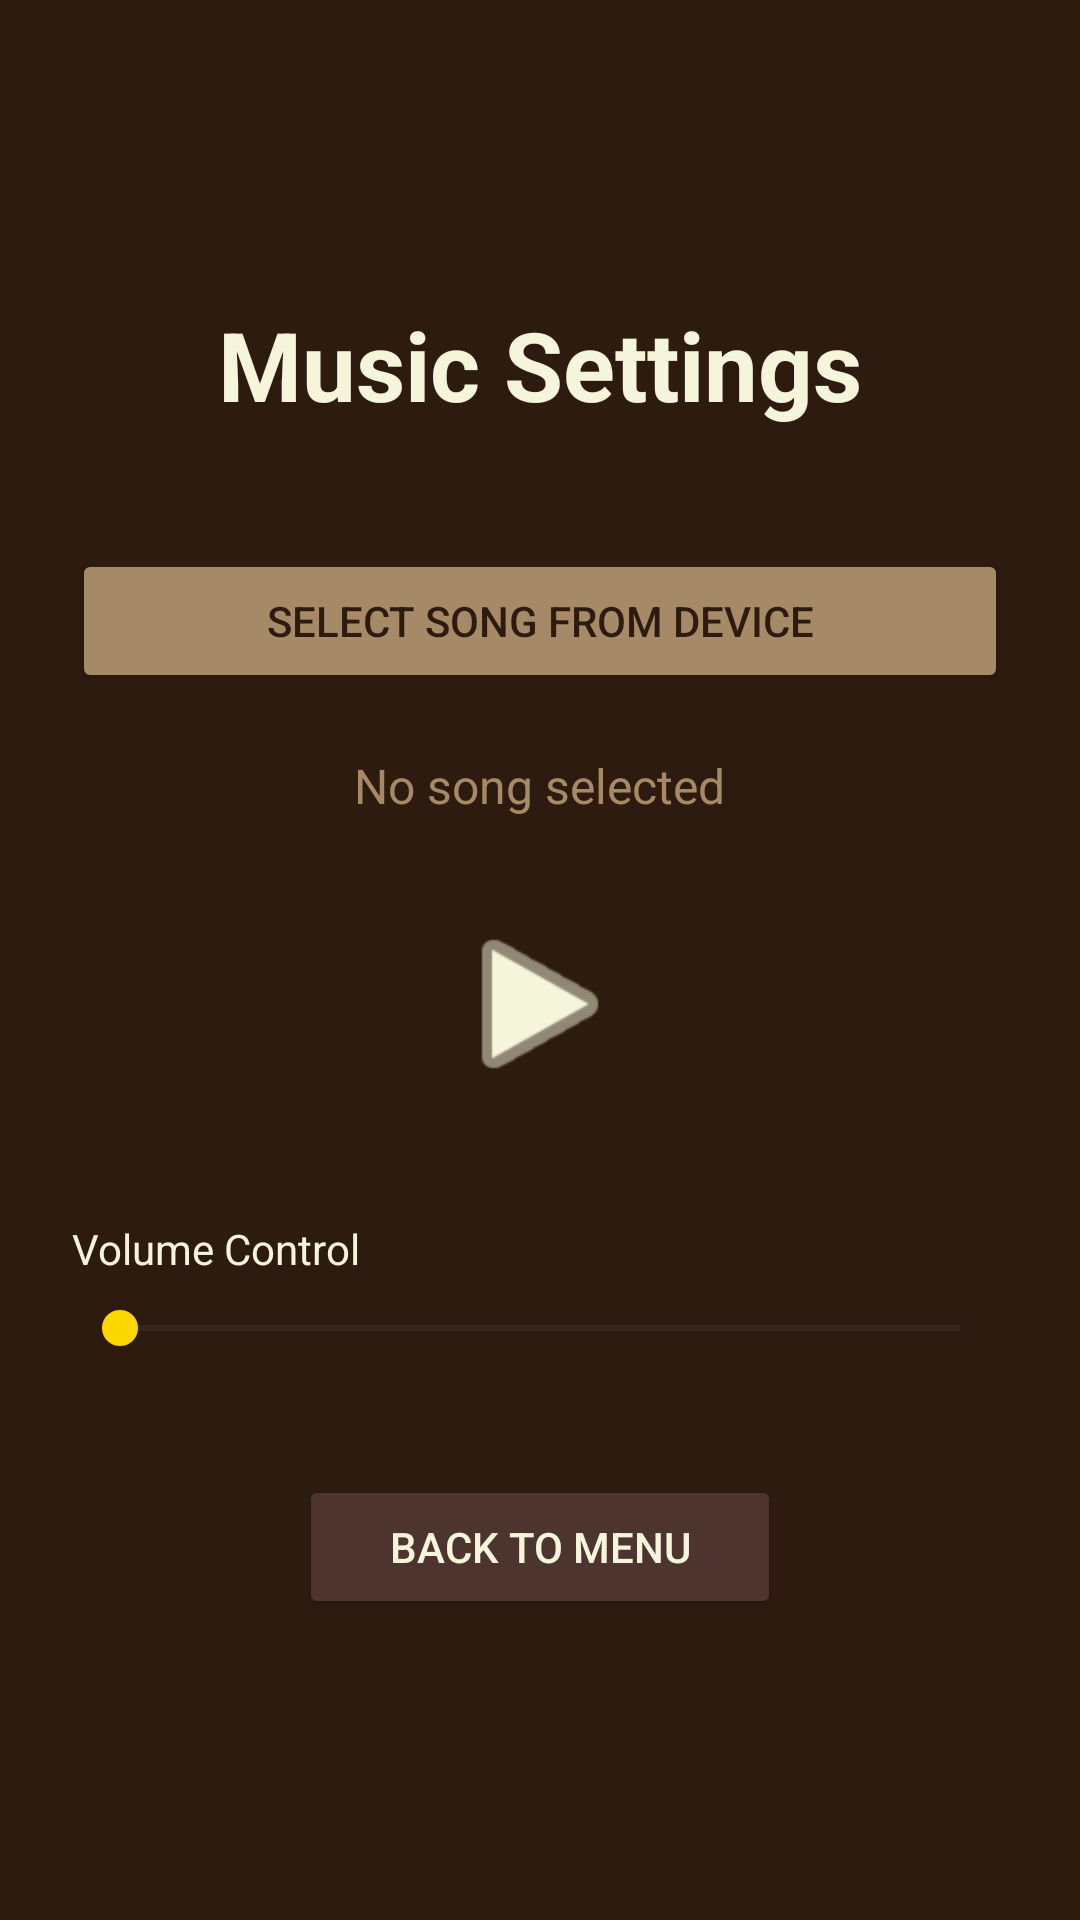

Point at icon controls on the screen. Image size 1080px×1920px, points as (x,y).
play: (540,1004)
